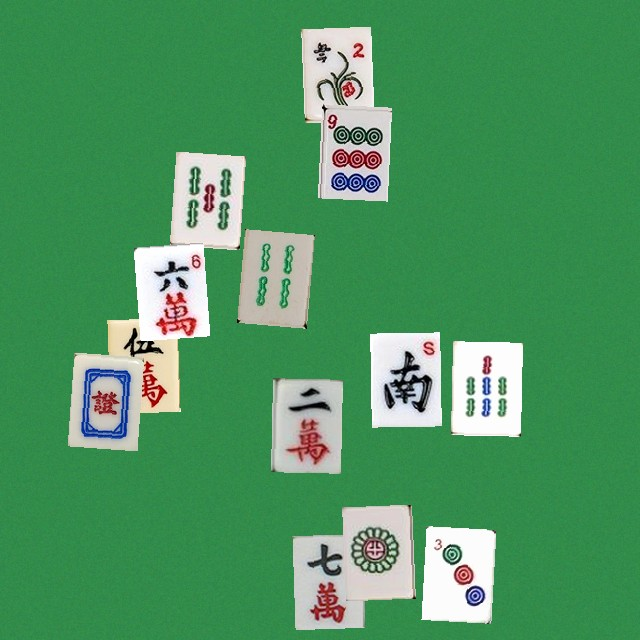tile: (421, 526, 491, 620), (370, 332, 440, 426), (450, 341, 520, 435), (270, 378, 340, 472), (301, 26, 371, 120), (237, 229, 307, 323), (292, 533, 362, 627), (169, 151, 239, 245), (317, 104, 387, 198), (342, 504, 412, 598), (107, 317, 177, 411), (67, 352, 137, 446), (133, 242, 203, 336)
